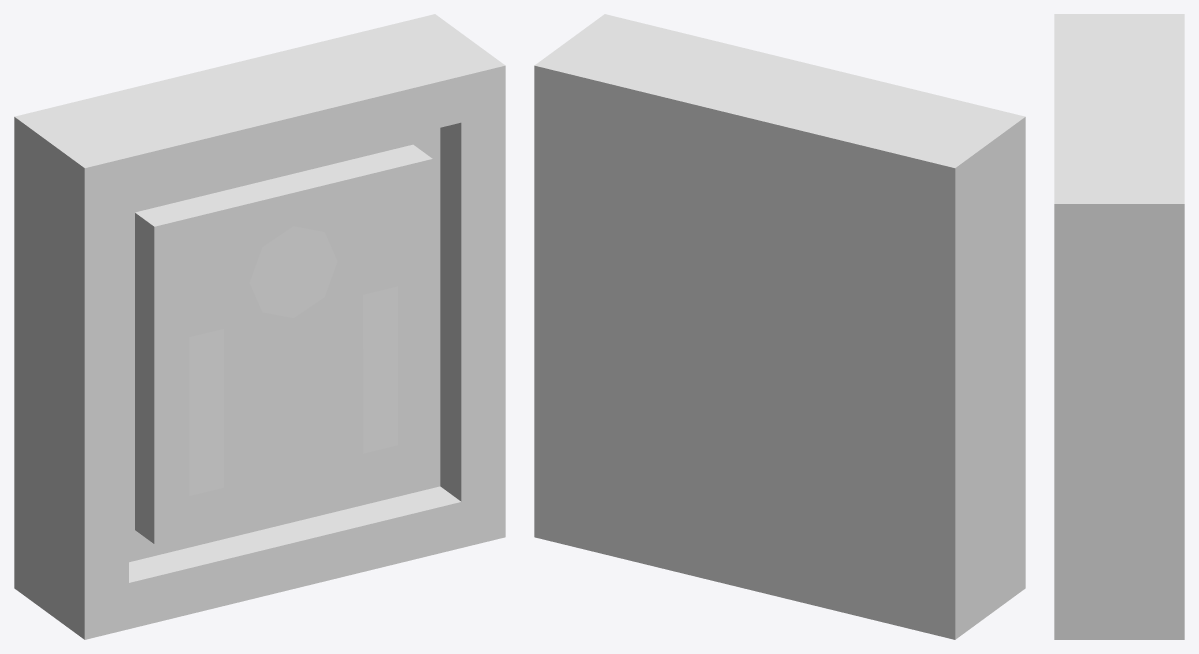
File: power_socket_a.fbx
3 views of the same model, side by side, from view 1: azimuth 30°, elevation 25°; view 2: azimuth 150°, elevation 25°; view 3: azimuth 270°, elevation 25° (orthographic). The views are drawn at different scales.
Parts seen in each view (by area): view 1: power_socket_a; view 2: power_socket_a; view 3: power_socket_a.
Boxes of the visible parts, bbox=[...] form: power_socket_a: bbox=[14, 14, 505, 639]; power_socket_a: bbox=[534, 14, 1025, 639]; power_socket_a: bbox=[1054, 14, 1184, 639].
Bounding box in the file's own units: 0.089 × 0.0953 × 0.0258.
